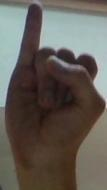I: (0, 0, 107, 148)
